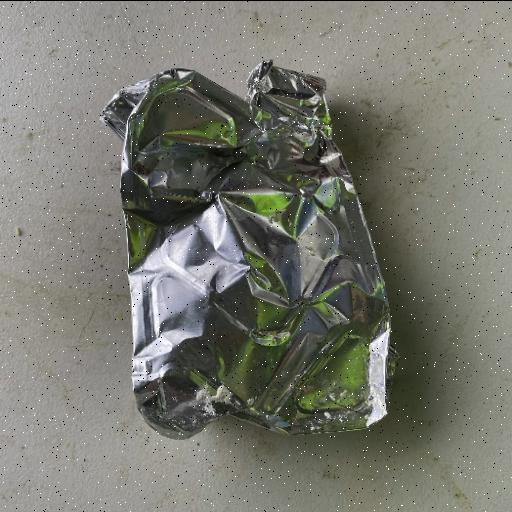Metal: (98, 58, 398, 440)
